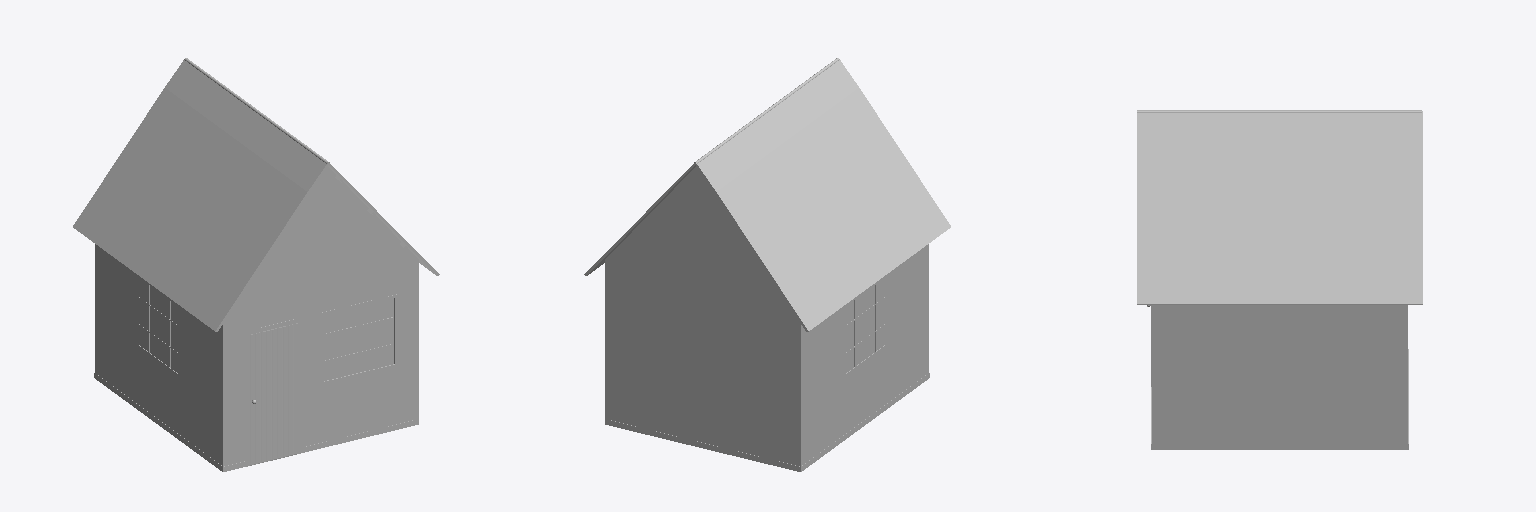
File: house.obj
3 renders of one model, left to right at view 1: azimuth 30°, elevation 25°; view 2: azimuth 150°, elevation 25°; view 3: azimuth 270°, elevation 25°, orthographic.
Parts seen in each view (by area): view 1: Casa_Cube.003; view 2: Casa_Cube.003; view 3: Casa_Cube.003.
Boxes of the visible parts, x1,y1,x2,y2 form: Casa_Cube.003: [73, 58, 439, 471]; Casa_Cube.003: [584, 58, 950, 471]; Casa_Cube.003: [1137, 110, 1422, 449].
Size of the model in its own units: 7.28 by 9.05 by 8.03.